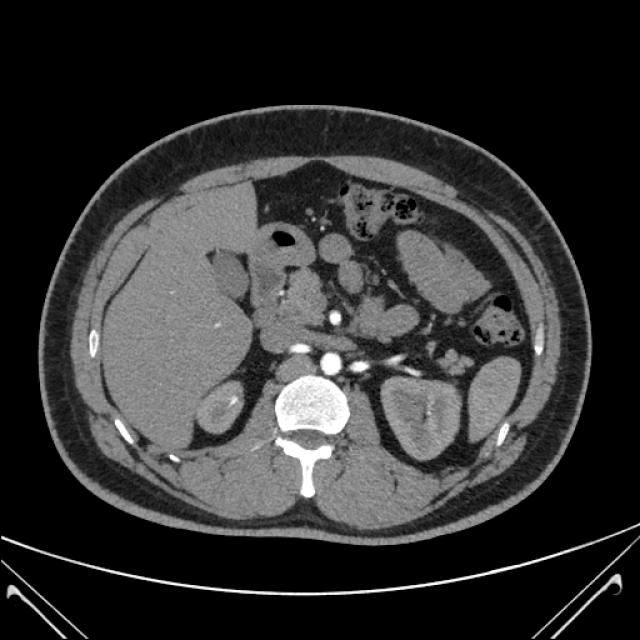Kidney: (34, 68, 640, 574)
